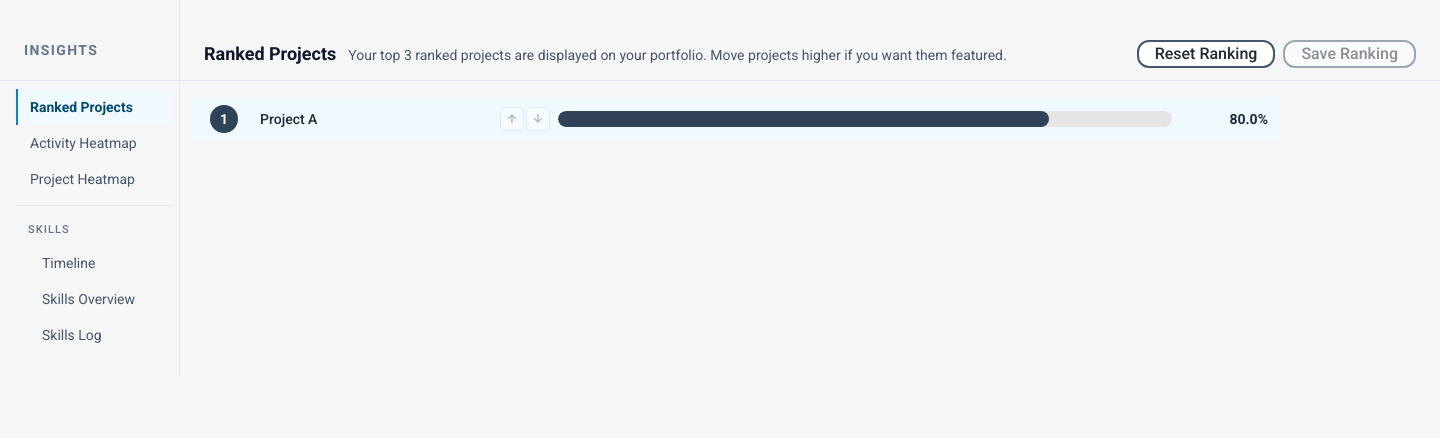
Scenario: InsightsLayout › switches to Skills Logs when clicked
The width and height of the screenshot is (1440, 438).
Expected: the text "Project A" is shown, [260,111,317,127]
What coordinates should you click on to do the following:
click the button "Skills Log"
I would click on:
 (94, 334)
Its box is [16,316,171,352].
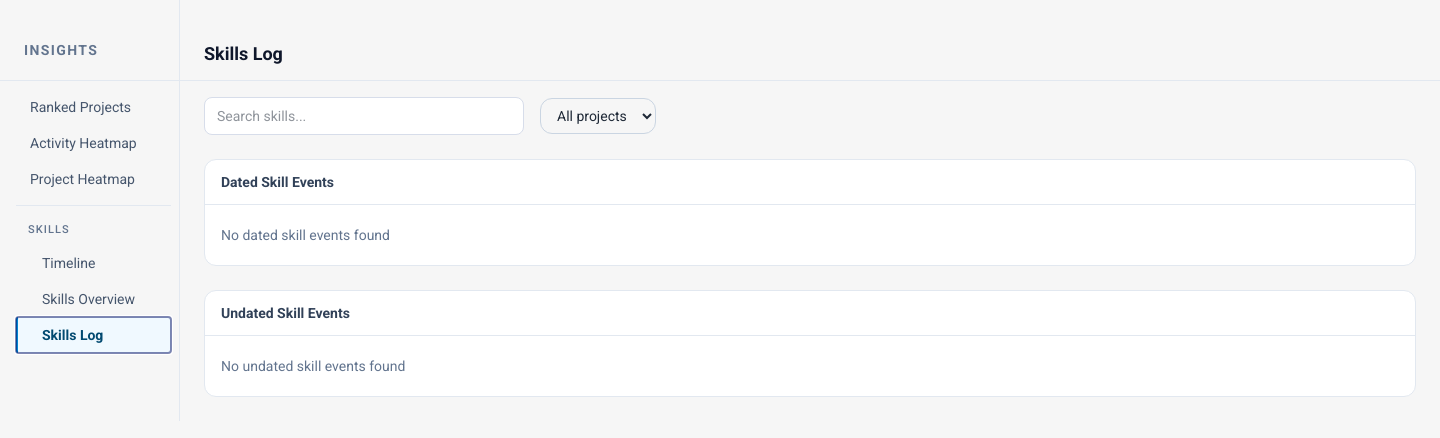
Expected: the heading "Skills Log" is shown, [204,40,283,68]
